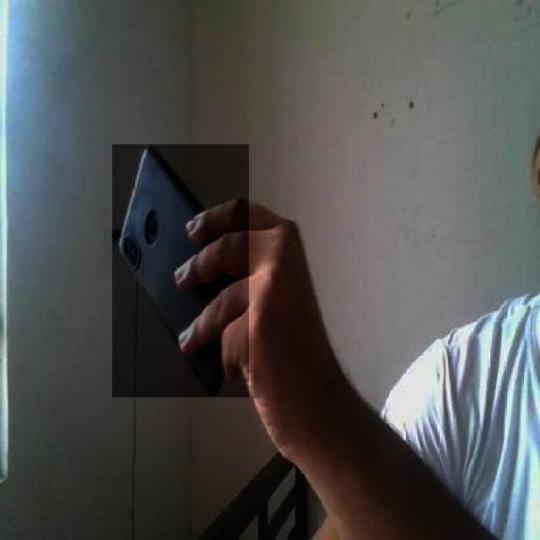phone: (114, 140, 252, 352)
